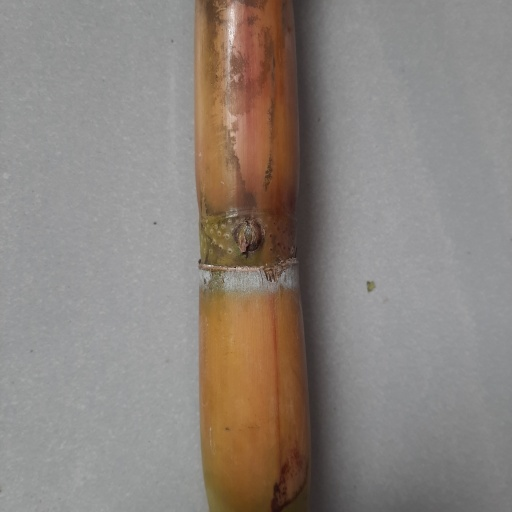Bud: (233, 217, 264, 258)
